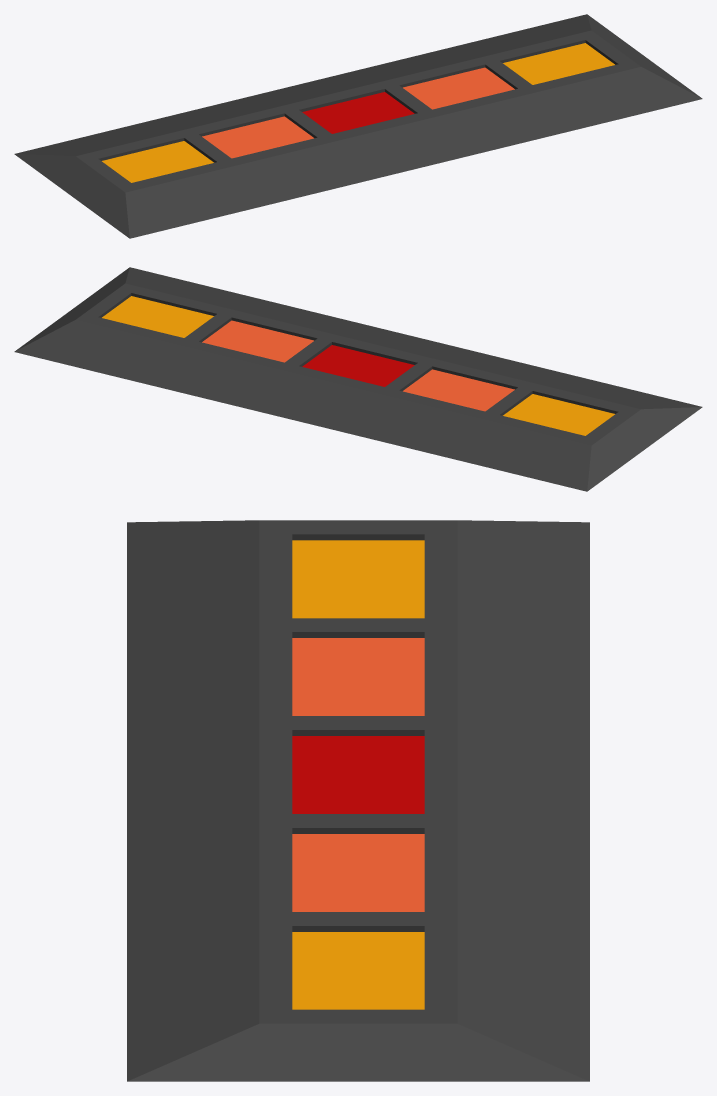
File: RolloverRectangles.fbx
3 views of the same model, one above another, from view 1: azimuth 30°, elevation 25°; view 2: azimuth 150°, elevation 25°; view 3: azimuth 270°, elevation 25° (orthographic). The views are drawn at different scales.
Visible parts, largest first — view 1: RolloverRectangles; view 2: RolloverRectangles; view 3: RolloverRectangles.
Part boxes in pixels (x1,y1,x2,y2): RolloverRectangles: [14, 14, 702, 238]; RolloverRectangles: [14, 267, 702, 491]; RolloverRectangles: [127, 520, 589, 1081].
Bounding box in the file's own units: 200 × 5 × 70.
